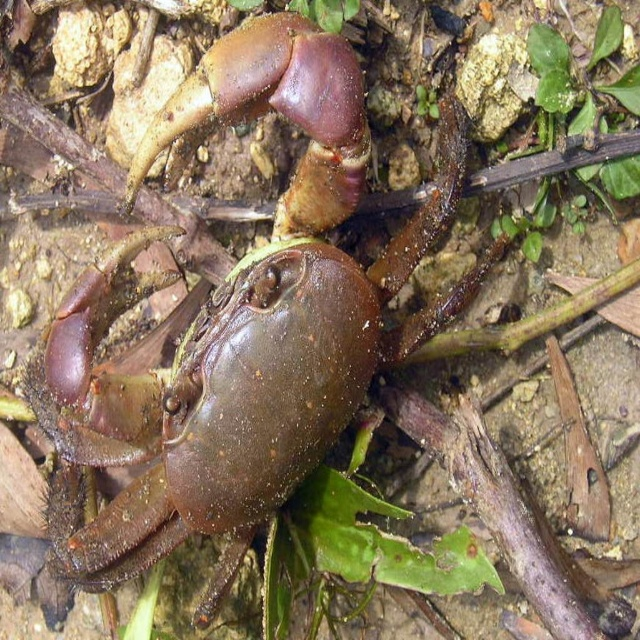Crab: (18, 8, 510, 630)
